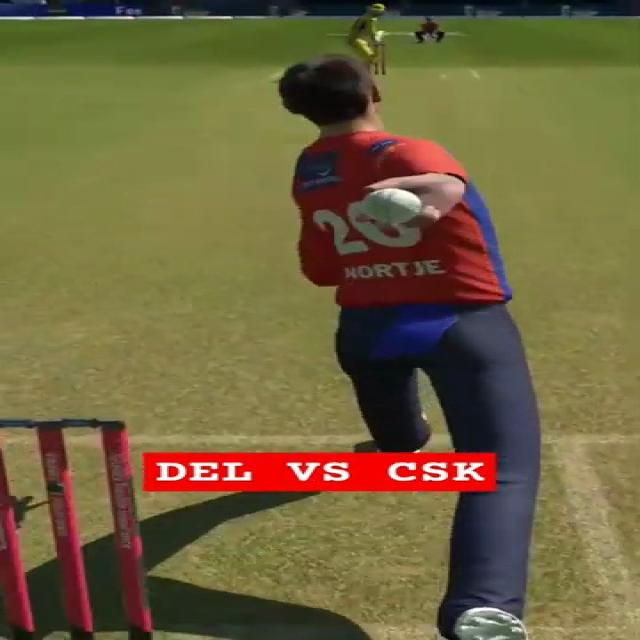ball: (359, 187, 421, 224)
